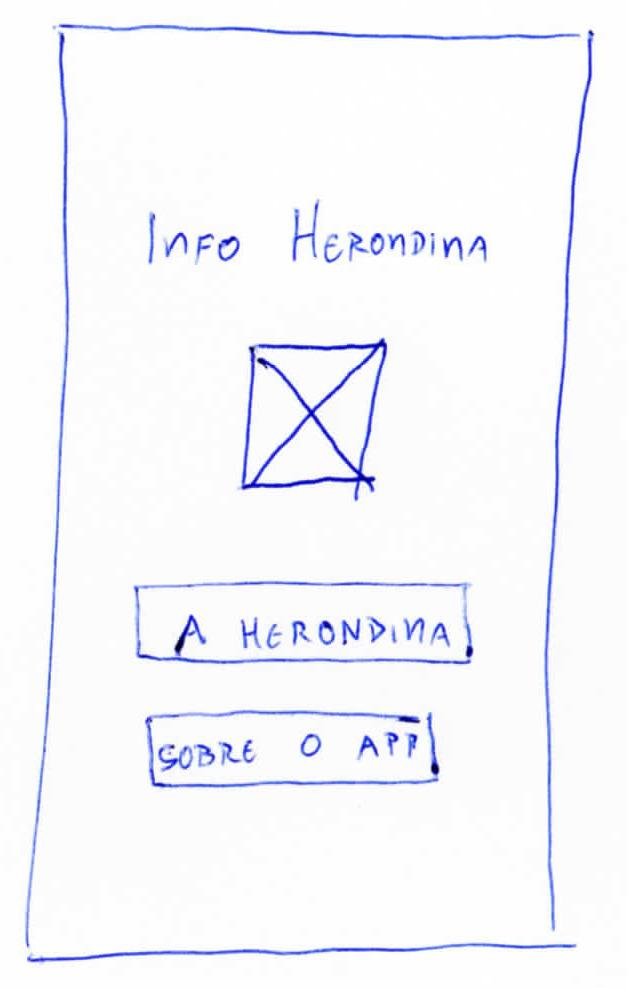Button: (134, 583, 474, 665), (146, 712, 439, 788)
Image: (241, 340, 386, 491)
Label: (143, 198, 488, 264)
Screen: (22, 24, 592, 961)
